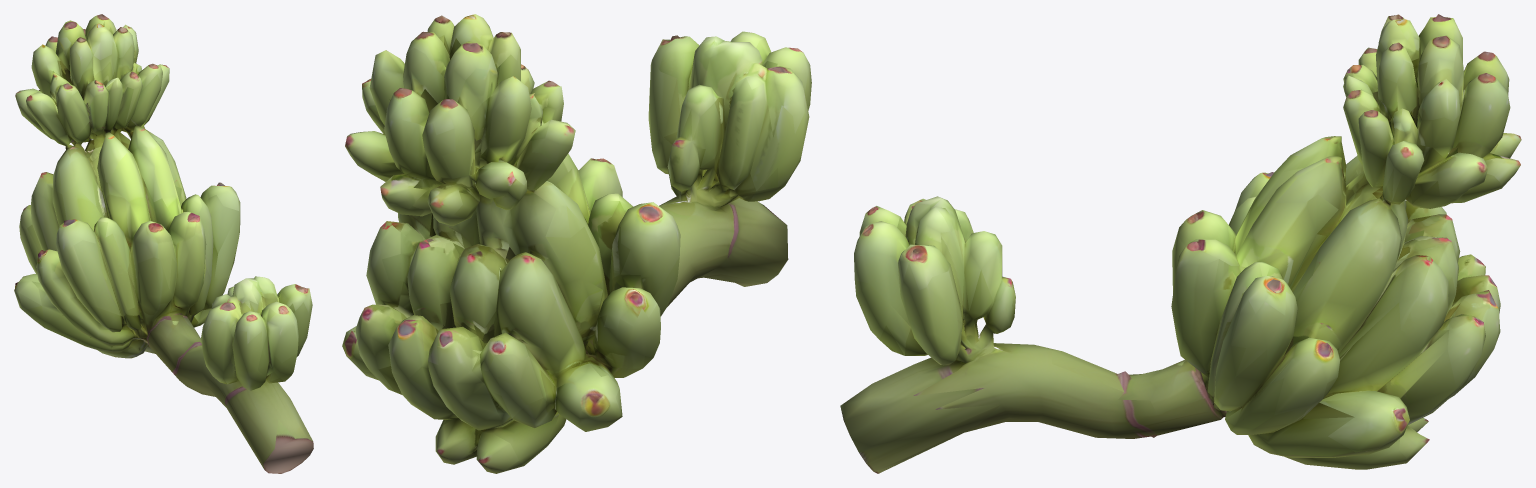
Rendered from Banana Clump model.fbx.
The picture shows the model from 3 angles, left to right: view 1: azimuth 30°, elevation 25°; view 2: azimuth 150°, elevation 25°; view 3: azimuth 270°, elevation 25°; orthographic projection. The views are drawn at different scales.
Visible parts, largest first — view 1: model; view 2: model; view 3: model.
Part boxes in pixels (<box>): model: <box>14,14,313,473</box>; model: <box>342,14,811,473</box>; model: <box>840,14,1521,473</box>.
Size of the model in its own units: 408 by 669 by 915.
1 material, 1 textured.
